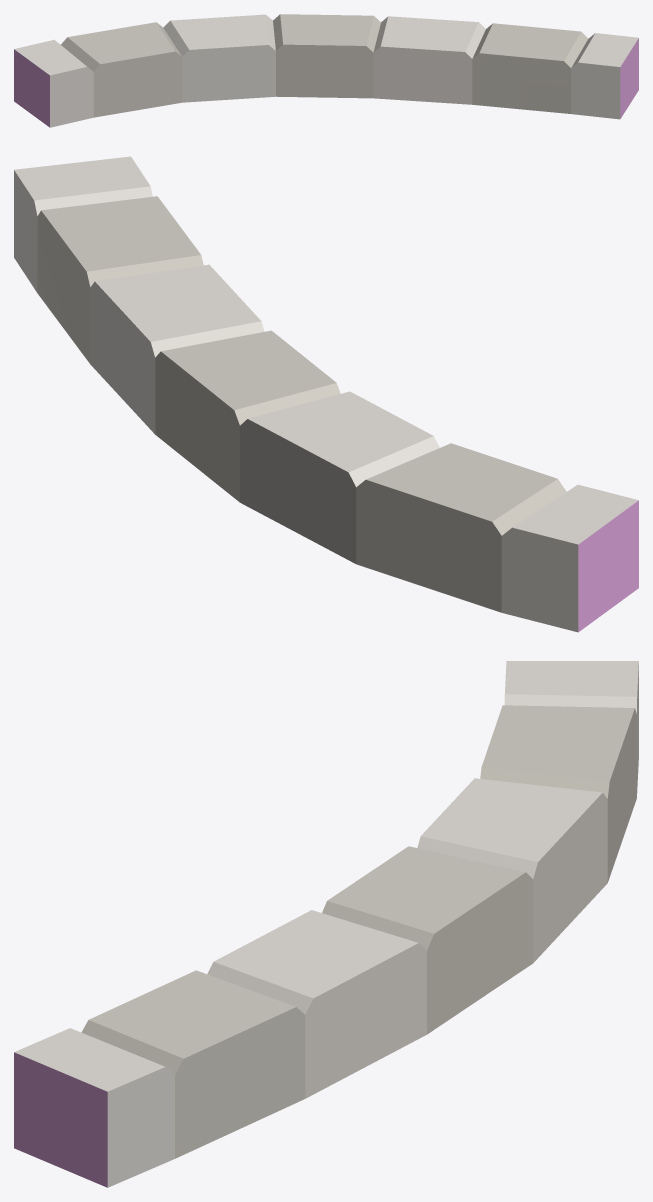
File: Path_Edging_Stones_45_Degrees_Curve_Inner_3x3.glb
The picture shows the model from 3 angles, top to bottom: view 1: azimuth 30°, elevation 25°; view 2: azimuth 150°, elevation 25°; view 3: azimuth 270°, elevation 25°; orthographic projection. The views are drawn at different scales.
Visible parts, largest first — view 1: Path_Edging_Stones_45_Degrees_Curve_Inner_3x3; view 2: Path_Edging_Stones_45_Degrees_Curve_Inner_3x3; view 3: Path_Edging_Stones_45_Degrees_Curve_Inner_3x3.
Boxes of the visible parts, bbox=[...] form: Path_Edging_Stones_45_Degrees_Curve_Inner_3x3: bbox=[14, 14, 638, 127]; Path_Edging_Stones_45_Degrees_Curve_Inner_3x3: bbox=[14, 156, 638, 632]; Path_Edging_Stones_45_Degrees_Curve_Inner_3x3: bbox=[14, 661, 638, 1187].
Size of the model in its own units: 240 by 25 by 147.
